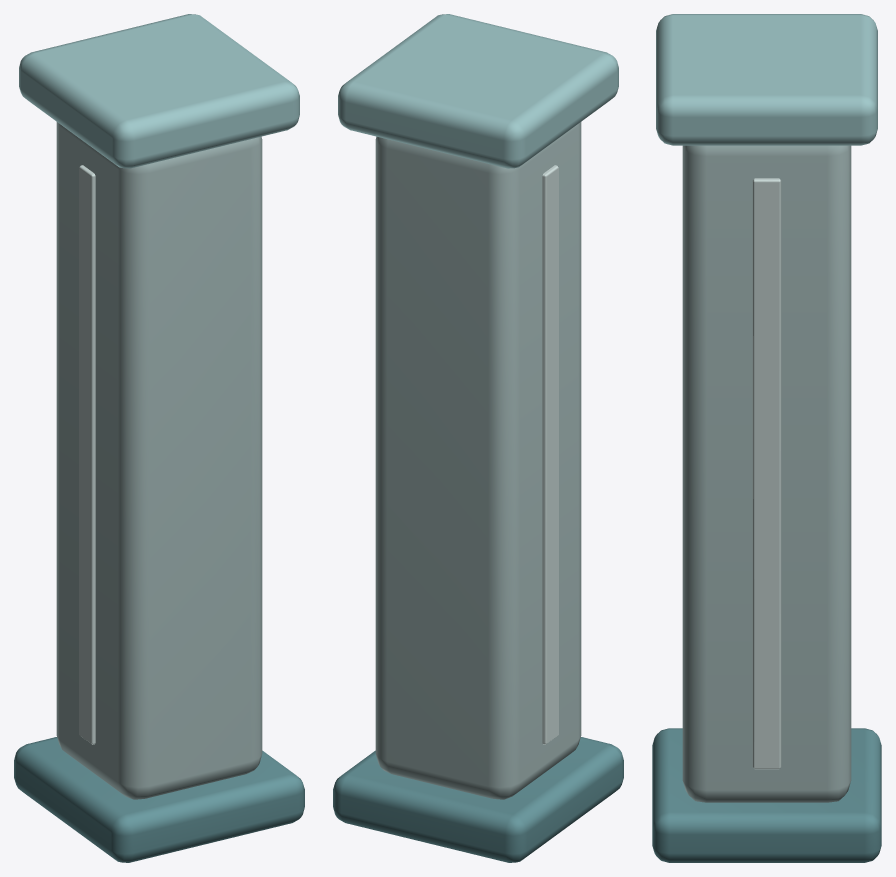
Rendered from pillar.glb.
3 views of the same model, side by side, from view 1: azimuth 30°, elevation 25°; view 2: azimuth 150°, elevation 25°; view 3: azimuth 270°, elevation 25° (orthographic). The views are drawn at different scales.
Visible parts, largest first — view 1: pillar; view 2: pillar; view 3: pillar.
Boxes of the visible parts, x1,y1,x2,y2 form: pillar: (14,14,304,862); pillar: (333,14,623,862); pillar: (652,14,881,862).
Bounding box in the file's own units: 1.9 × 7 × 1.9.
